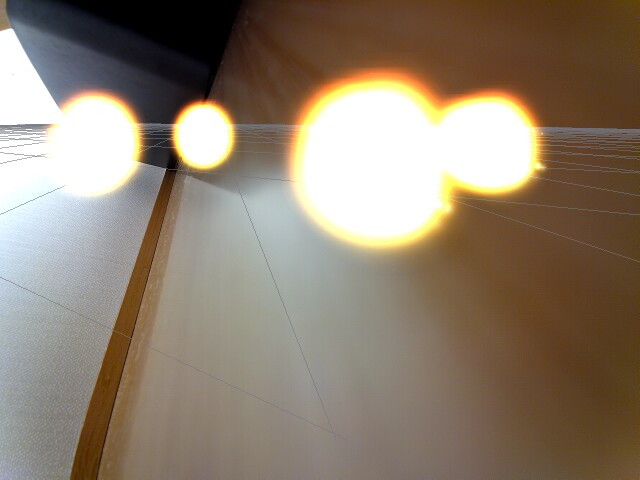fire: (292, 79, 446, 258), (442, 92, 548, 201), (47, 90, 142, 198), (171, 101, 236, 171)
